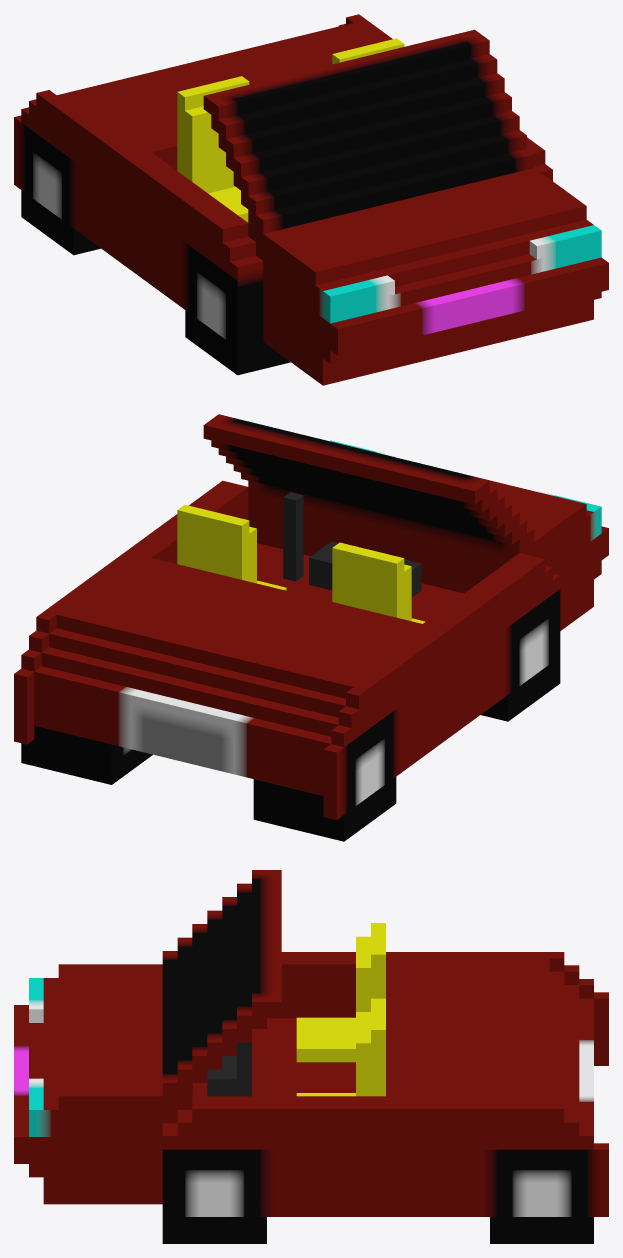
File: Car_12.fbx
3 renders of one model, top to bottom at view 1: azimuth 30°, elevation 25°; view 2: azimuth 150°, elevation 25°; view 3: azimuth 270°, elevation 25°, orthographic.
Visible parts, largest first — view 1: Car_12; view 2: Car_12; view 3: Car_12.
Boxes of the visible parts, x1,y1,x2,y2 form: Car_12: (14, 14, 608, 385); Car_12: (14, 414, 608, 841); Car_12: (14, 870, 608, 1243).
Bounding box in the file's own units: 25 × 17 × 40.
Materials: 1 (1 with a texture image).
